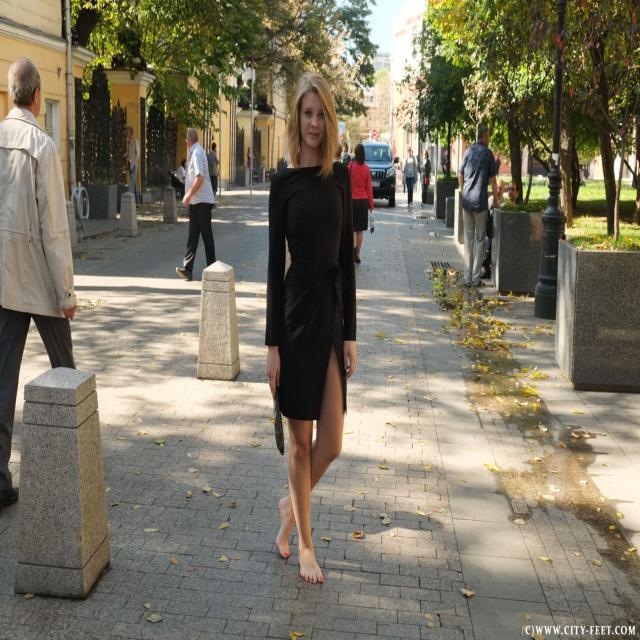Barefoots: (298, 543, 324, 584), (276, 497, 290, 558)
